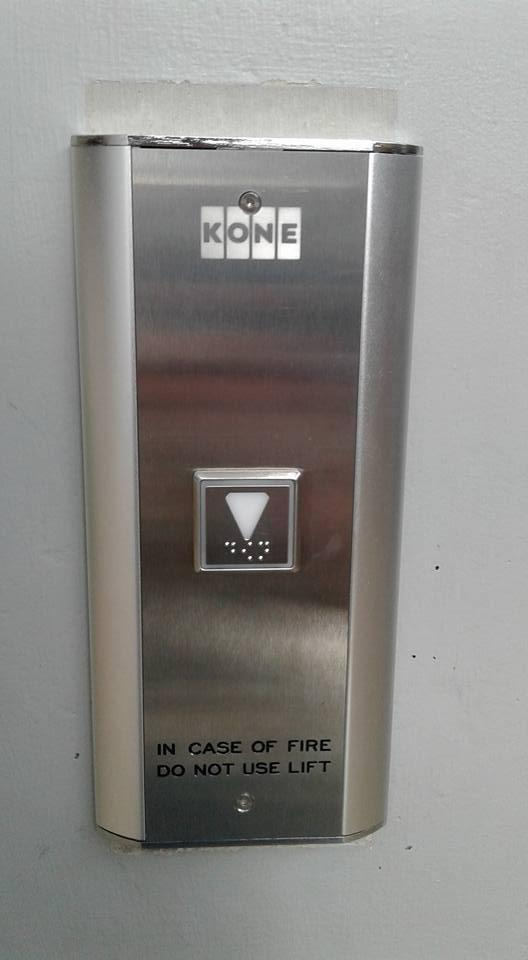down: (186, 461, 304, 581)
